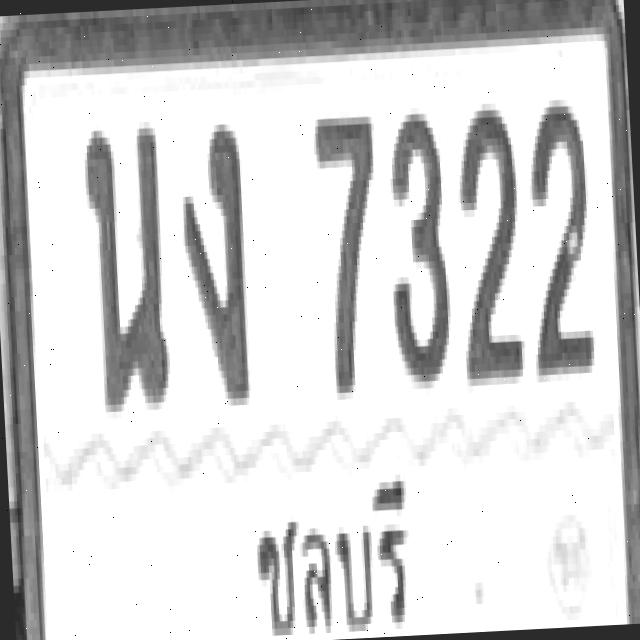16NgorNgu: (178, 117, 250, 400)
2: (453, 99, 526, 382), (522, 95, 595, 372)
3: (382, 103, 452, 380)
34NorNu: (83, 117, 170, 409)
7: (312, 110, 385, 393)
Chonburi: (236, 445, 430, 640)
